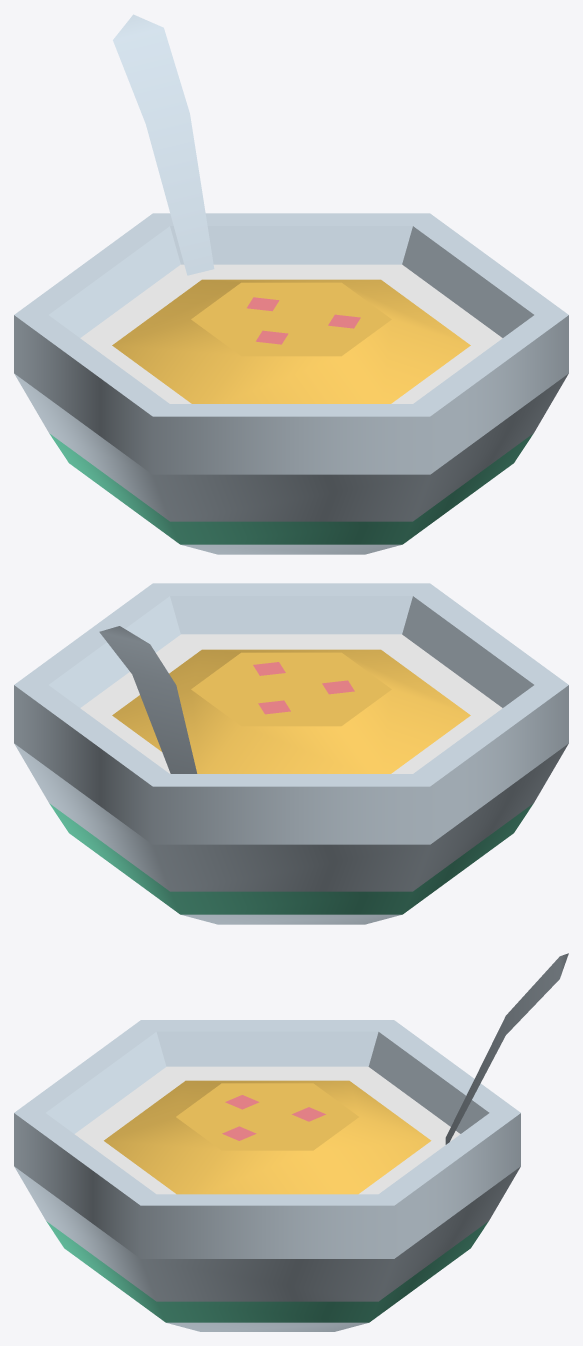
File: Bowl Cereal.glb
3 views of the same model, one above another, from view 1: azimuth 30°, elevation 25°; view 2: azimuth 150°, elevation 25°; view 3: azimuth 270°, elevation 25° (orthographic). The views are drawn at different scales.
Visible parts, largest first — view 1: Bowl Cereal; view 2: Bowl Cereal; view 3: Bowl Cereal.
Boxes of the visible parts, x1,y1,x2,y2 form: Bowl Cereal: (14,14,568,554); Bowl Cereal: (14,583,568,924); Bowl Cereal: (14,953,568,1331).
Size of the model in its own units: 0.2232 by 0.1863 by 0.282.
